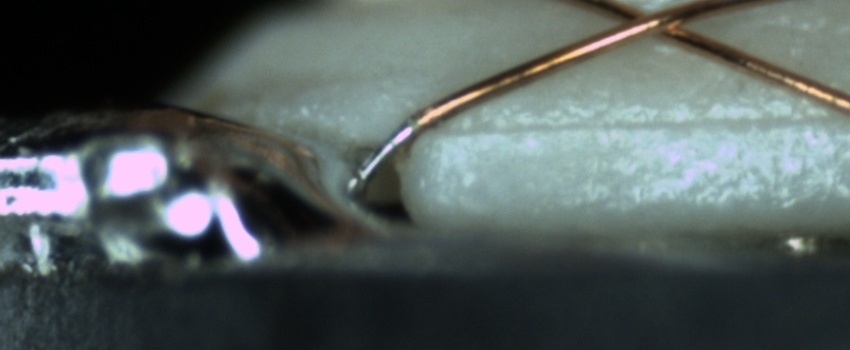CL: (592, 1, 709, 45)
DL: (429, 91, 849, 159)
TS: (351, 121, 417, 195)
TTCW: (354, 106, 419, 185)
